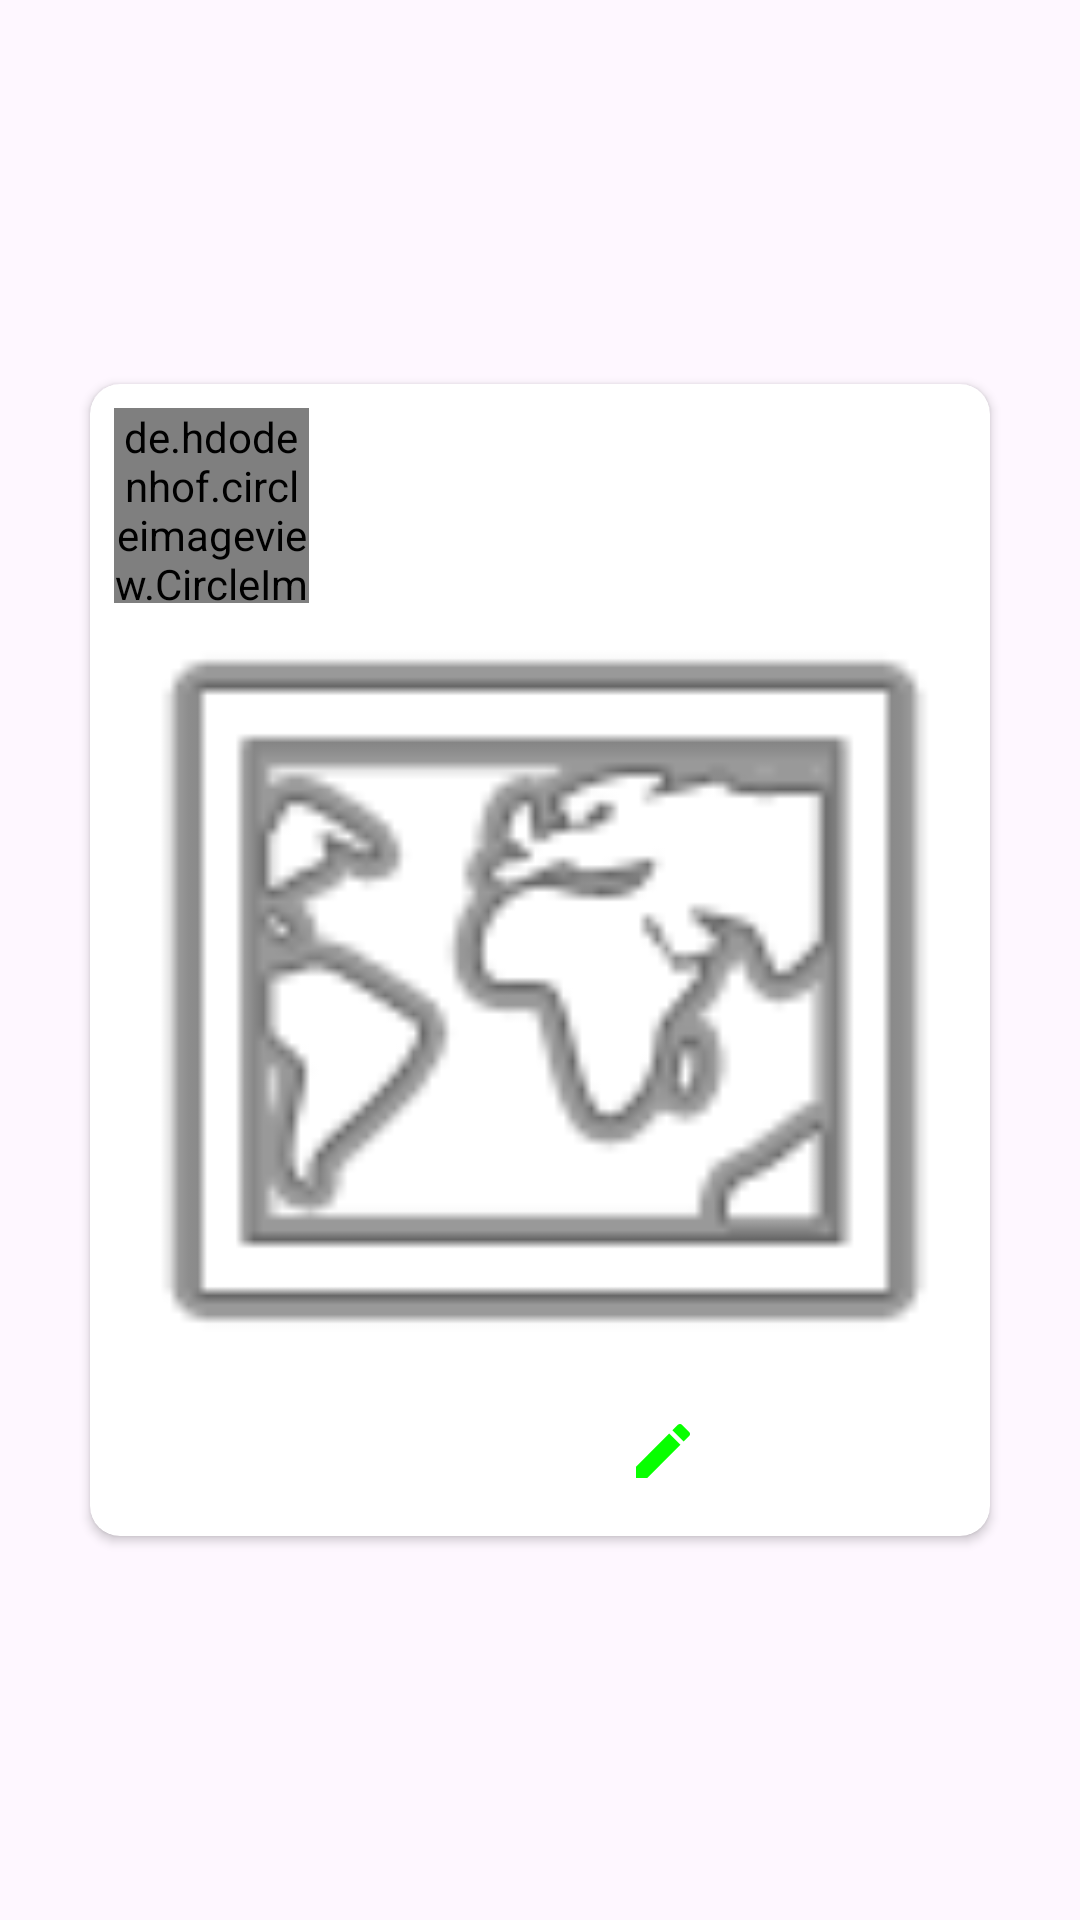

Where to tap for icons on this 1080px×1920px app screen, as (x,y):
edit: (663,1451)
